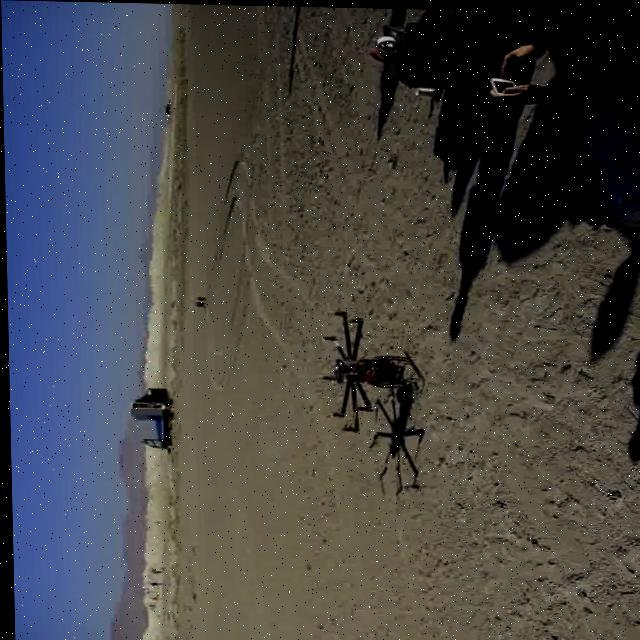drone: (316, 306, 413, 432)
